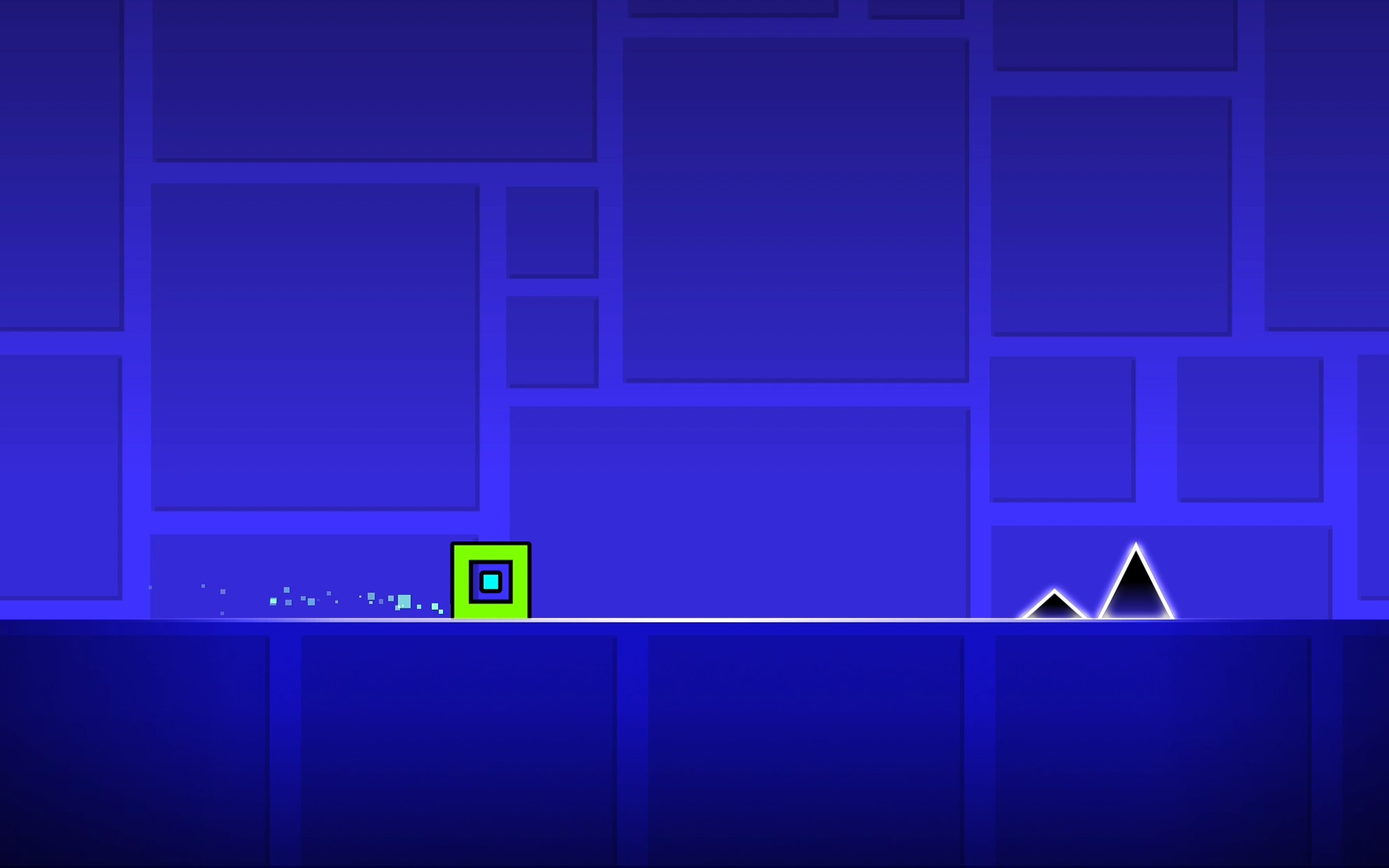Player: (452, 543, 533, 619)
Spike: (1098, 547, 1173, 619)
Spike2: (1019, 589, 1087, 619)
